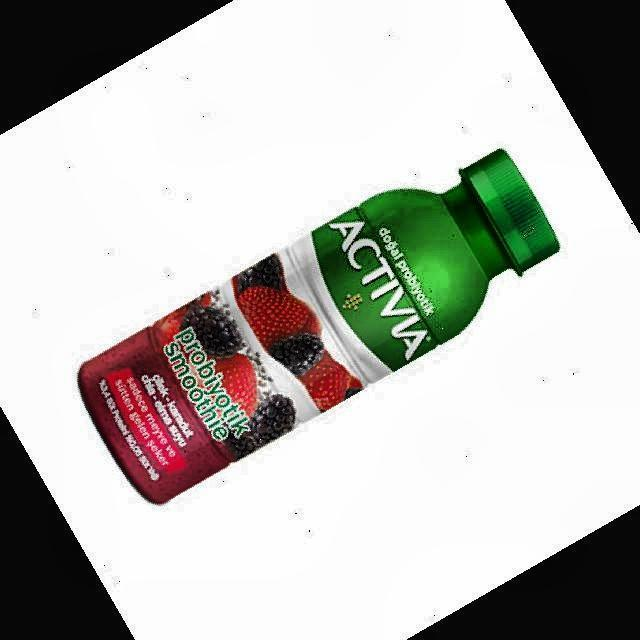plastic: (79, 150, 559, 503)
